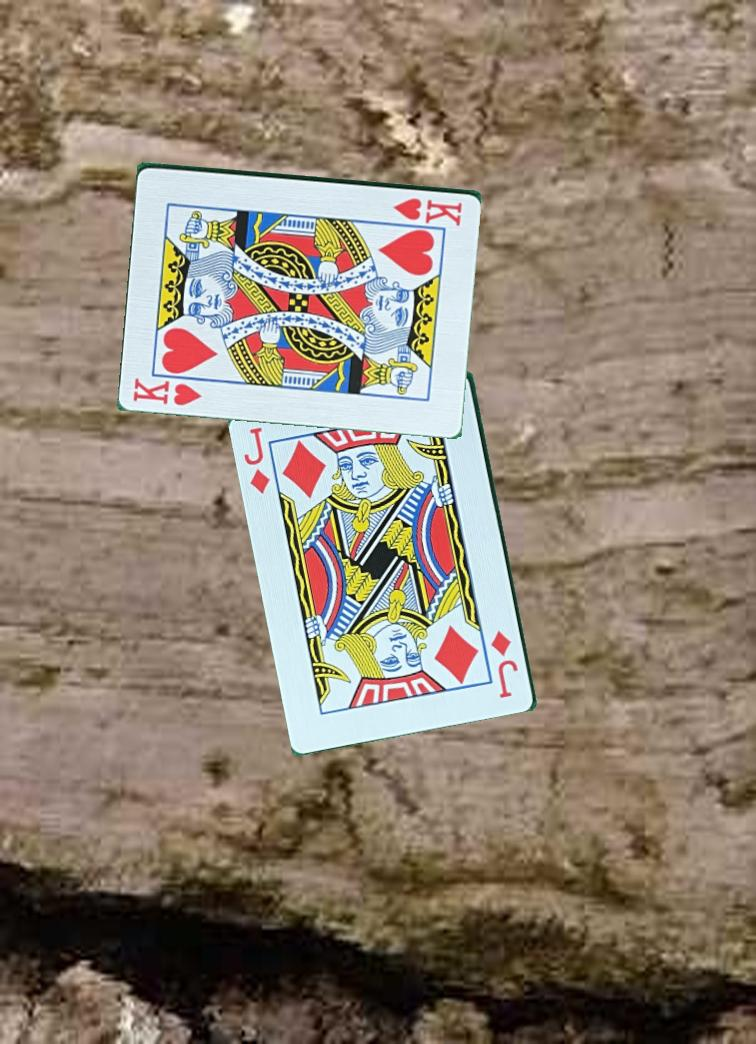jd: (488, 627, 522, 701), (241, 424, 274, 497)
kh: (130, 373, 205, 408), (387, 193, 466, 225)
